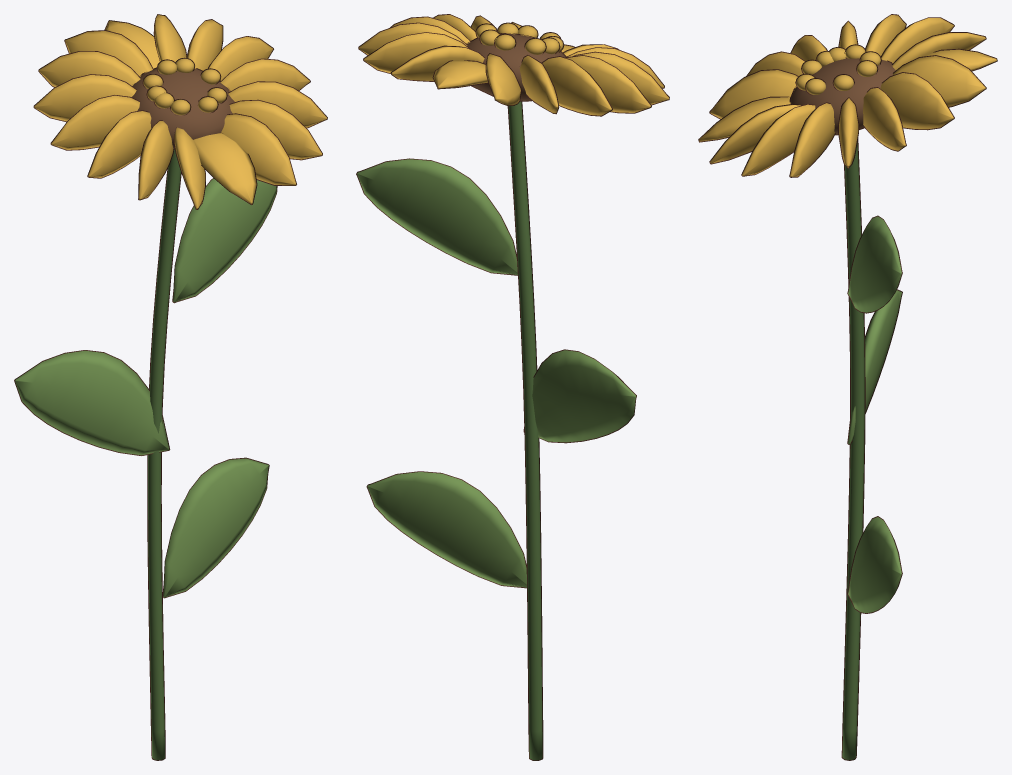
File: sonnenblume.glb
The picture shows the model from 3 angles, left to right: view 1: azimuth 30°, elevation 25°; view 2: azimuth 150°, elevation 25°; view 3: azimuth 270°, elevation 25°; orthographic projection. The views are drawn at different scales.
Parts seen in each view (by area): view 1: Plant_Plant_Blossom, Plant_Plant_Leaf, Stem, Flower_Centre, Outline_Plant_Plant_Blossom, Plant_Plant_Heart, Outline_Stem, Outline_Plant_Plant_Leaf; view 2: Plant_Plant_Leaf, Plant_Plant_Blossom, Stem, Outline_Plant_Plant_Blossom, Outline_Stem, Plant_Plant_Heart, Flower_Centre, Outline_Plant_Plant_Leaf; view 3: Plant_Plant_Blossom, Plant_Plant_Leaf, Stem, Flower_Centre, Outline_Plant_Plant_Blossom, Plant_Plant_Heart, Outline_Stem, Outline_Plant_Plant_Leaf.
Boxes of the visible parts, left/top/right/bottom form: Plant_Plant_Blossom: left=34, top=14, right=326, bottom=209; Plant_Plant_Leaf: left=15, top=178, right=276, bottom=597; Stem: left=148, top=149, right=180, bottom=760; Flower_Centre: left=132, top=68, right=234, bottom=148; Outline_Plant_Plant_Blossom: left=33, top=14, right=327, bottom=209; Plant_Plant_Heart: left=143, top=58, right=226, bottom=115; Outline_Stem: left=147, top=168, right=181, bottom=760; Outline_Plant_Plant_Leaf: left=14, top=178, right=277, bottom=598; Plant_Plant_Leaf: left=357, top=159, right=636, bottom=587; Plant_Plant_Blossom: left=359, top=15, right=668, bottom=115; Stem: left=508, top=101, right=542, bottom=760; Outline_Plant_Plant_Blossom: left=358, top=14, right=669, bottom=116; Outline_Stem: left=507, top=102, right=543, bottom=760; Plant_Plant_Heart: left=476, top=23, right=563, bottom=54; Flower_Centre: left=467, top=33, right=565, bottom=100; Outline_Plant_Plant_Leaf: left=356, top=158, right=636, bottom=588; Plant_Plant_Blossom: left=699, top=15, right=996, bottom=176; Plant_Plant_Leaf: left=848, top=216, right=901, bottom=613; Stem: left=842, top=142, right=864, bottom=760; Flower_Centre: left=790, top=58, right=895, bottom=134; Outline_Plant_Plant_Blossom: left=698, top=14, right=997, bottom=177; Plant_Plant_Heart: left=796, top=45, right=880, bottom=94; Outline_Stem: left=841, top=138, right=865, bottom=760; Outline_Plant_Plant_Leaf: left=847, top=215, right=902, bottom=613.
Bounding box in the file's own units: 0.614 × 1.5 × 0.5642.
